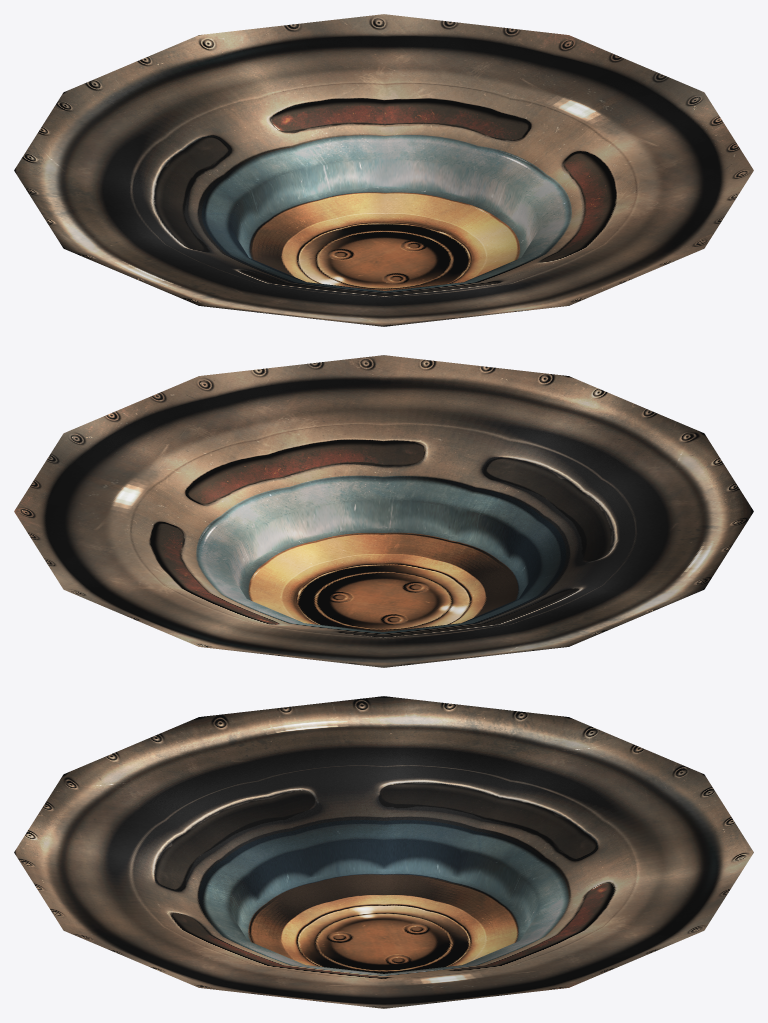
Rendered from mprw_ceiling_circle.FBX.
3 renders of one model, top to bottom at view 1: azimuth 30°, elevation 25°; view 2: azimuth 150°, elevation 25°; view 3: azimuth 270°, elevation 25°, orthographic.
Visible parts, largest first — view 1: mprw_ceiling_circle; view 2: mprw_ceiling_circle; view 3: mprw_ceiling_circle.
Boxes of the visible parts, x1,y1,x2,y2 form: mprw_ceiling_circle: (14, 14, 753, 326); mprw_ceiling_circle: (14, 355, 753, 667); mprw_ceiling_circle: (14, 696, 753, 1008).
Bounding box in the file's own units: 1330 × 178 × 1330.
1 material, 1 textured.
